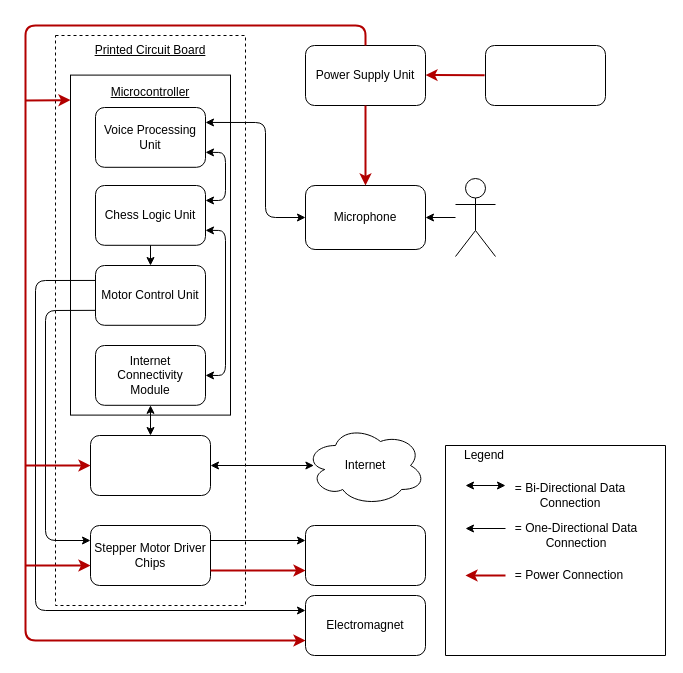
This 683x673 diagram has some shape labels left out. Each missing label, with the centre of its shape:
External WiFi Chip: the point at 150,465
Stepper Motors: the point at 365,555
User: the point at 475,217
Wall Outlet Power: the point at 545,75
